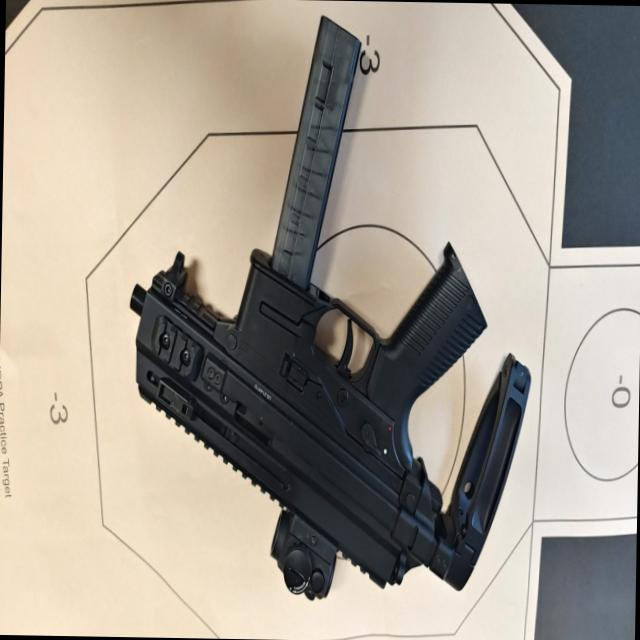Weapon: (123, 5, 540, 621)
